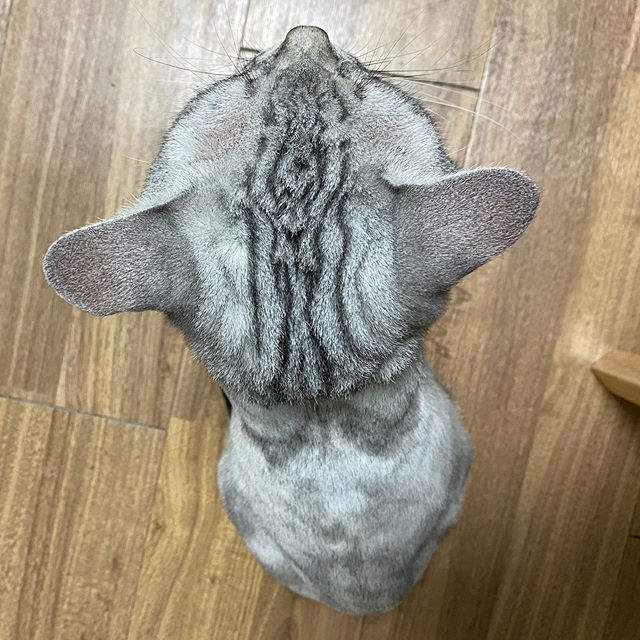cat: (47, 24, 546, 404)
